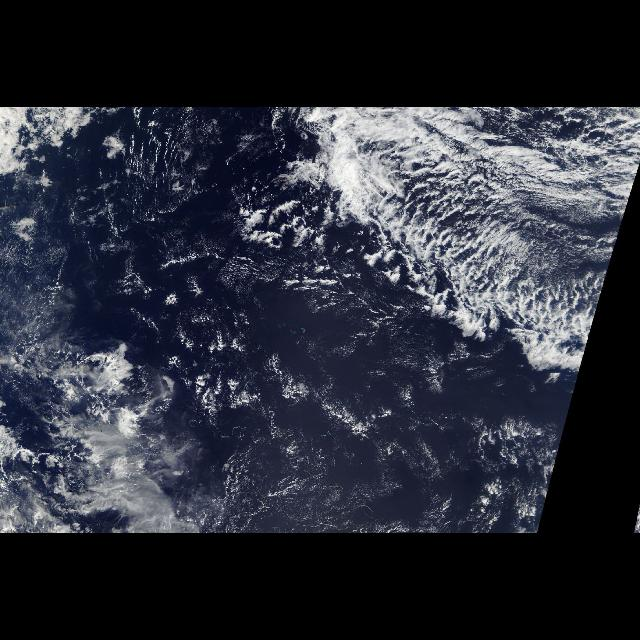Sugar: (222, 371, 522, 533)
